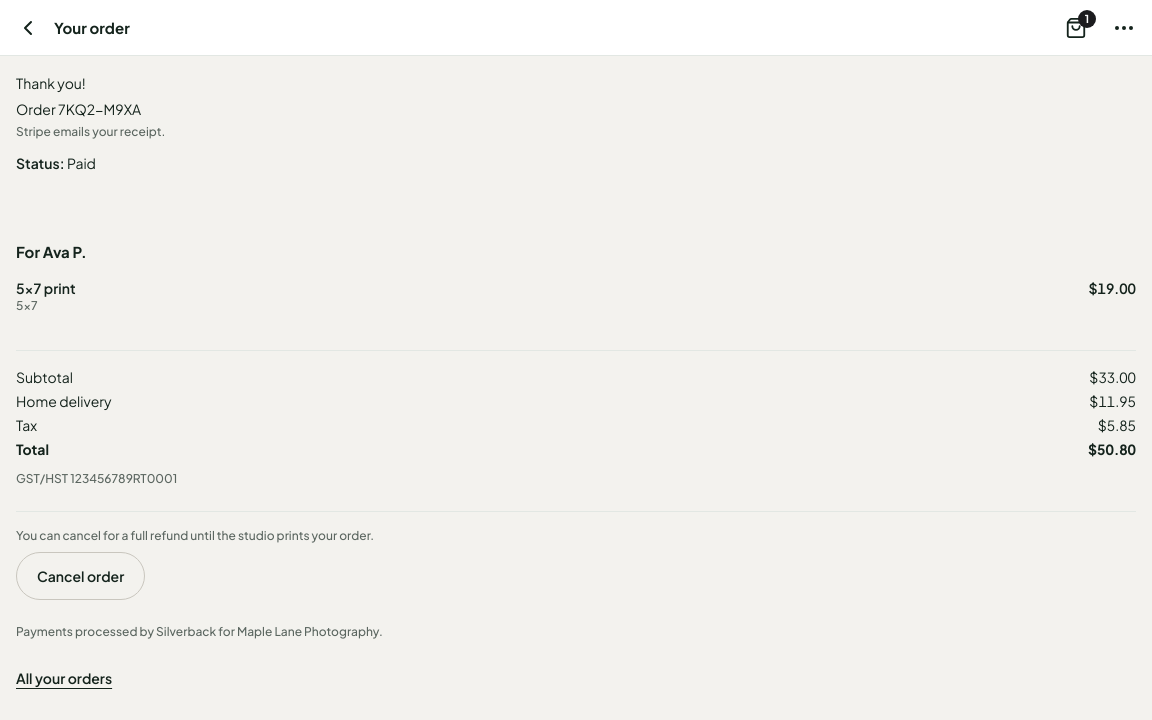
Test: the order page after payment (ADR 0024) › cancels only after the parent confirms, then says the order was canceled
This screenshot has width=1152, height=720.
What coordinates should you click on to do the following:
click the button "Cancel order"
I would click on:
 (81, 576)
Its box is [16, 552, 145, 600].
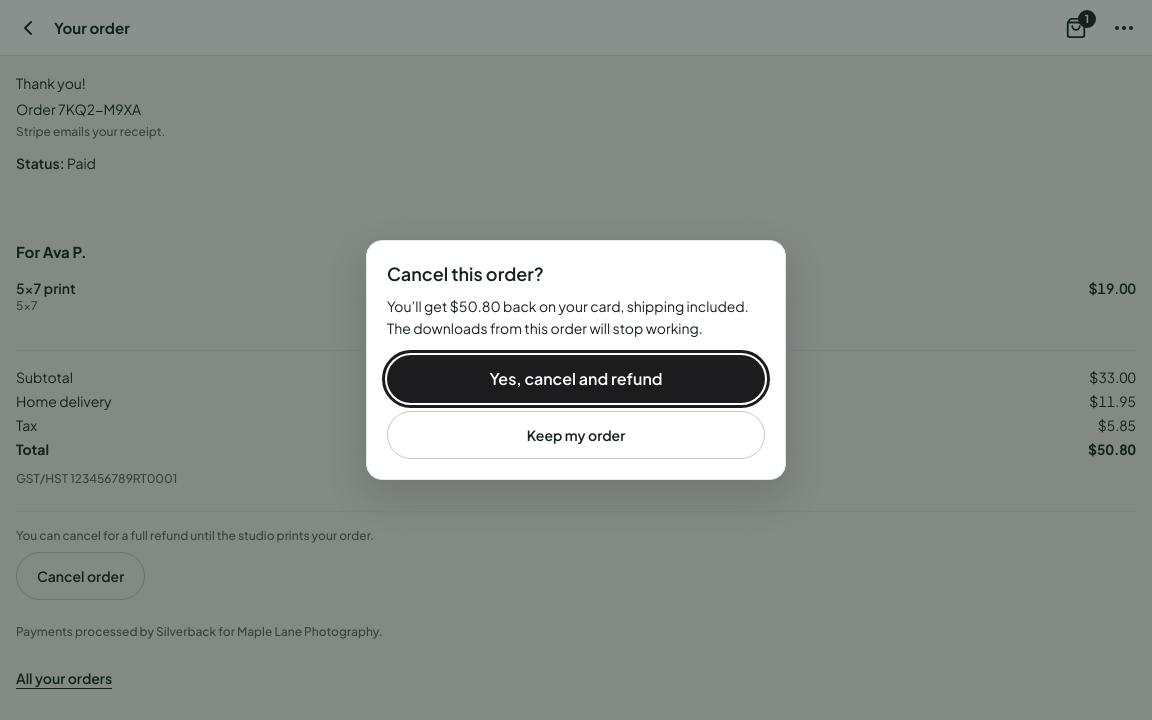
Expected: the text "You’ll get $50.80 back on your card" is shown, [387, 297, 749, 337]
What coordinates should you click on to do the following:
click the button "Yes, cancel and refund"
I would click on:
 (576, 379)
Its box is [387, 355, 765, 403].
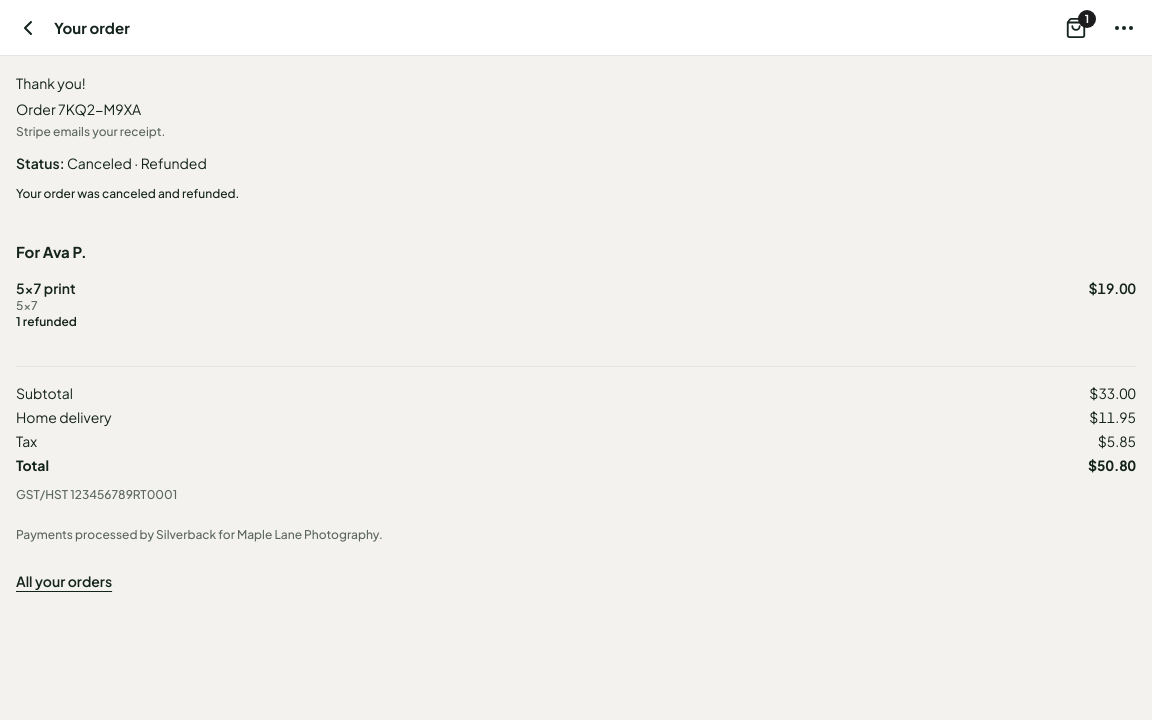
Expected: the text "Your order was canceled and refunded." is shown, [16, 186, 239, 201]
Expected: the text "1 refunded" is shown, [16, 314, 77, 329]
